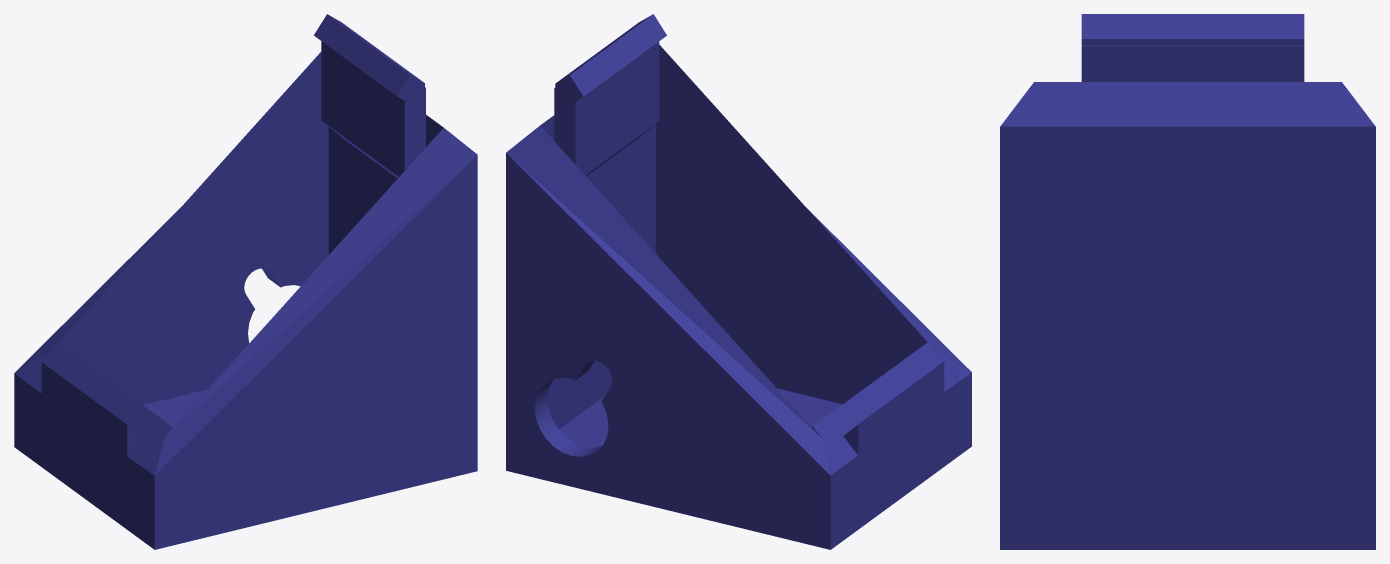
The model's file is housing-bot.dae.
3 views of the same model, side by side, from view 1: azimuth 30°, elevation 25°; view 2: azimuth 150°, elevation 25°; view 3: azimuth 270°, elevation 25° (orthographic). The views are drawn at different scales.
Visible parts, largest first — view 1: group_5, group_4, group_7, group_2, group_0, group_9, group_3, group_6, group_1; view 2: group_4 (×2), group_5, group_7, group_0, group_2, group_3, group_9, group_6, group_1; view 3: group_0, group_4, group_5, group_3, group_7, group_6.
Part boxes in pixels (x1=…): group_5: x1=142, y1=128, x2=477, y2=549; group_4: x1=14, y1=52, x2=328, y2=455; group_7: x1=321, y1=41, x2=425, y2=178; group_2: x1=27, y1=382, x2=141, y2=517; group_0: x1=328, y1=115, x2=443, y2=254; group_9: x1=27, y1=343, x2=173, y2=466; group_3: x1=27, y1=389, x2=207, y2=540; group_6: x1=314, y1=14, x2=424, y2=105; group_1: x1=41, y1=362, x2=141, y2=455; group_4 (×2): x1=506, y1=125, x2=843, y2=549; group_5: x1=656, y1=45, x2=971, y2=455; group_7: x1=554, y1=41, x2=659, y2=176; group_0: x1=540, y1=115, x2=655, y2=429; group_2: x1=843, y1=381, x2=959, y2=517; group_3: x1=559, y1=388, x2=959, y2=540; group_9: x1=812, y1=341, x2=958, y2=465; group_6: x1=555, y1=14, x2=666, y2=106; group_1: x1=843, y1=361, x2=944, y2=455; group_0: x1=1034, y1=82, x2=1341, y2=519; group_4: x1=1342, y1=82, x2=1375, y2=549; group_5: x1=1000, y1=82, x2=1033, y2=549; group_3: x1=1034, y1=519, x2=1341, y2=549; group_7: x1=1081, y1=45, x2=1304, y2=81; group_6: x1=1081, y1=14, x2=1304, y2=45.
Size of the model in its own units: 1.73 by 1.31 by 1.96.
